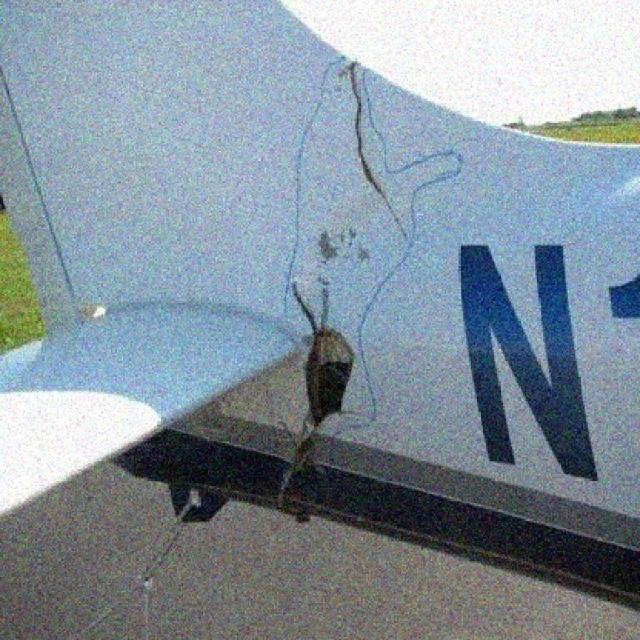crack: (354, 87, 411, 241)
